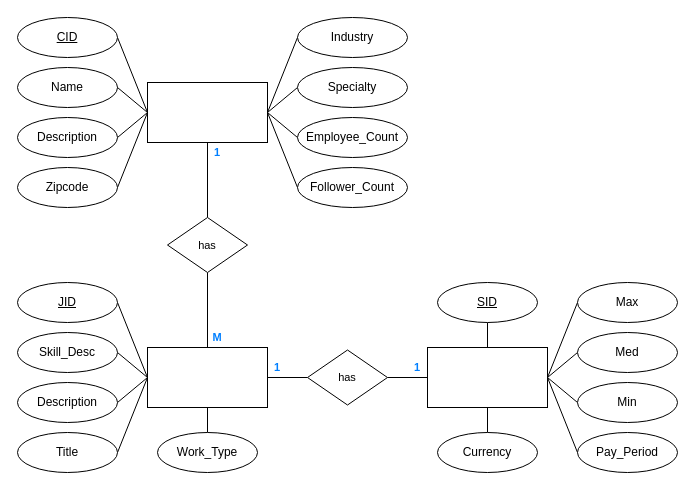
This 695x490 diagram has some shape labels left out. Here are the shapes that lost their labels. From the top down, the box of each, then its label:
(146, 82, 268, 142): Company
(146, 346, 268, 408): Job
(426, 346, 548, 408): Salary
